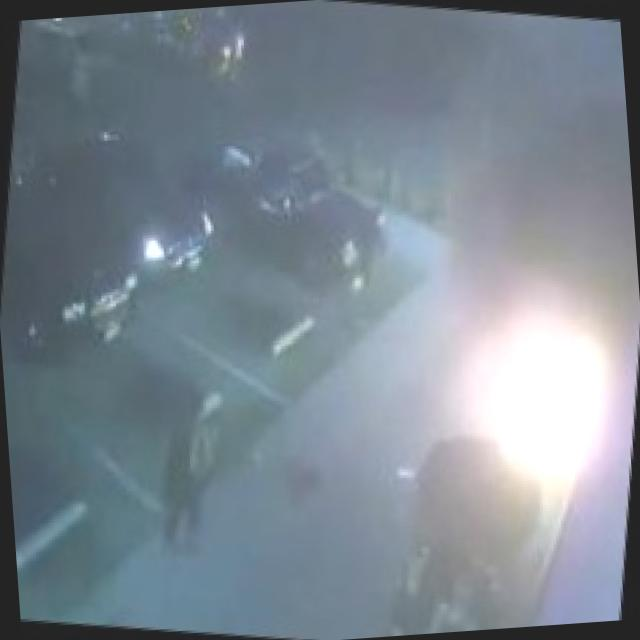fire: (431, 270, 640, 560)
